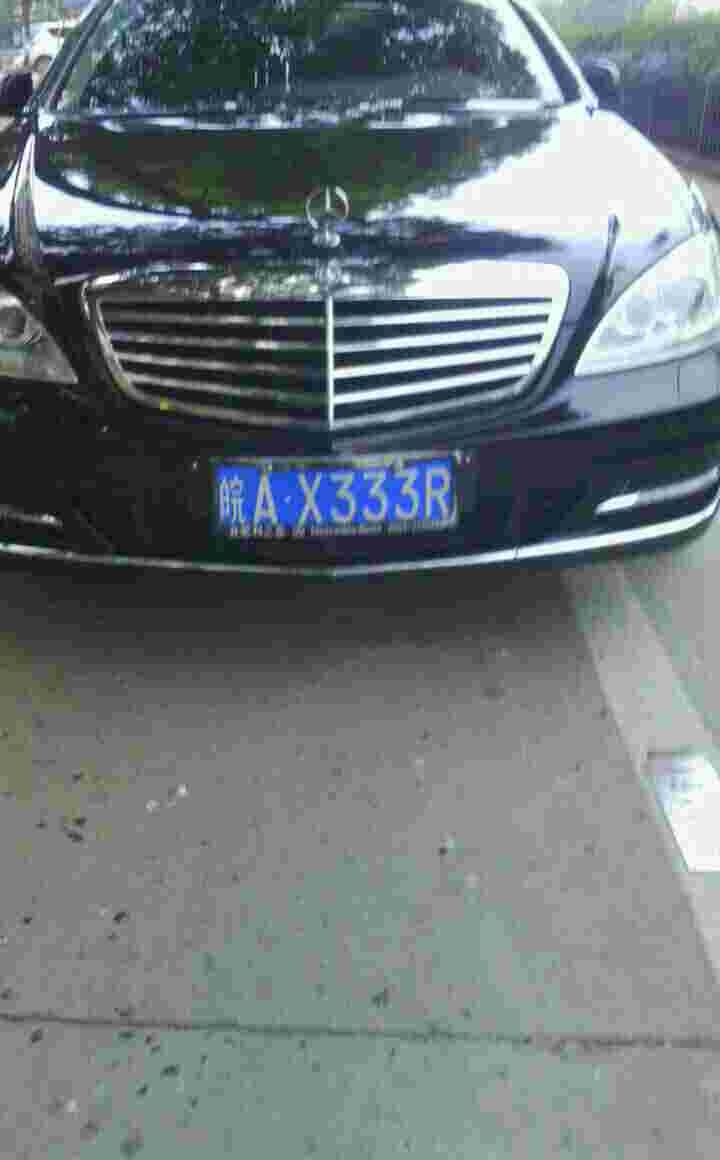car: (204, 456, 457, 541)
